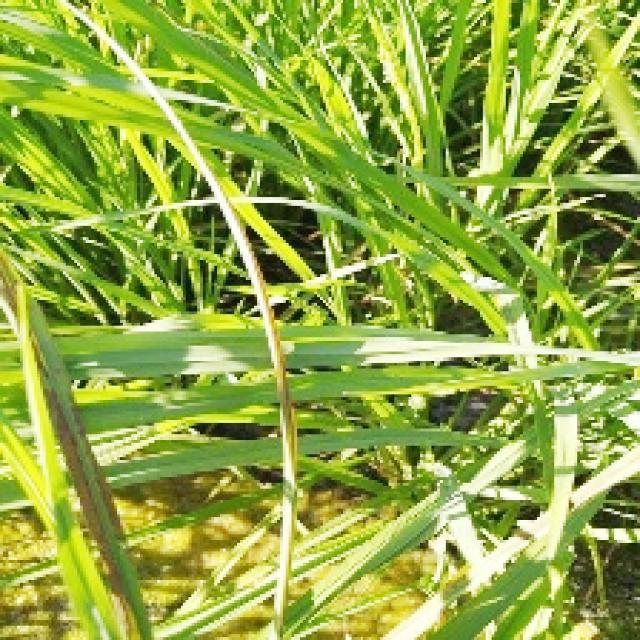health: (3, 3, 188, 294)
